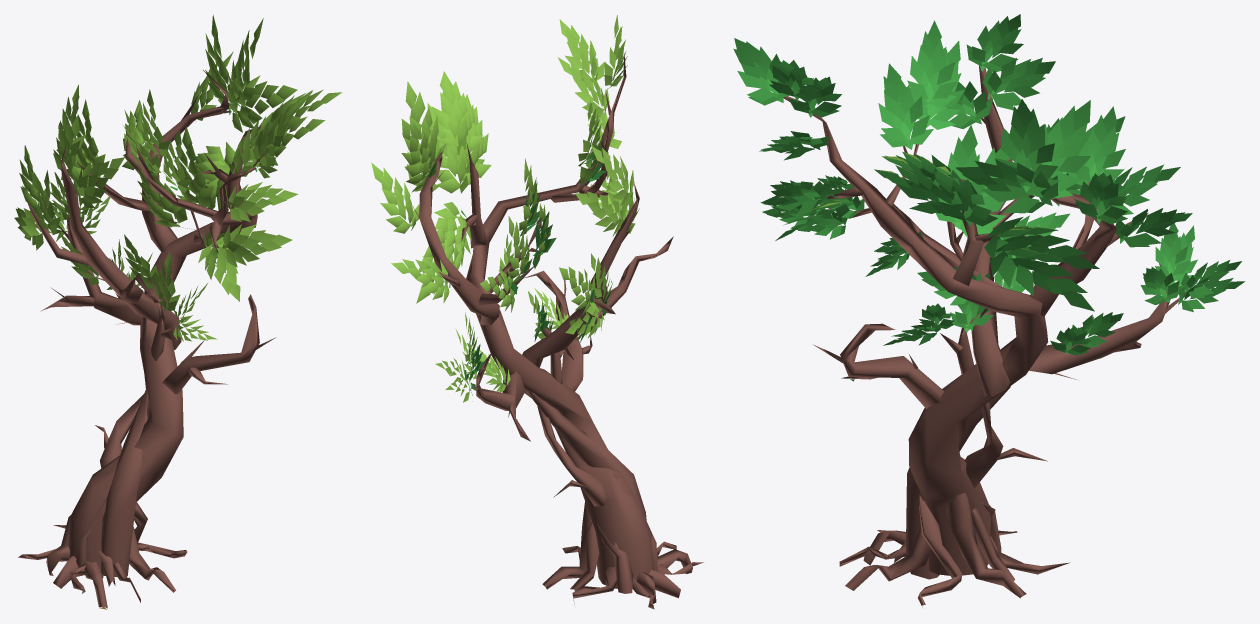
Rendered from big-tree.glb.
3 views of the same model, side by side, from view 1: azimuth 30°, elevation 25°; view 2: azimuth 150°, elevation 25°; view 3: azimuth 270°, elevation 25° (orthographic). The views are drawn at different scales.
Parts seen in each view (by area): view 1: group1406566609; view 2: group1406566609; view 3: group1406566609.
Part boxes in pixels (left/top/right/bottom): group1406566609: left=14, top=15, right=342, bottom=609; group1406566609: left=371, top=15, right=703, bottom=609; group1406566609: left=733, top=14, right=1244, bottom=607.
Bounding box in the file's own units: 1.35 × 2.38 × 1.83.
1 material, 1 textured.
